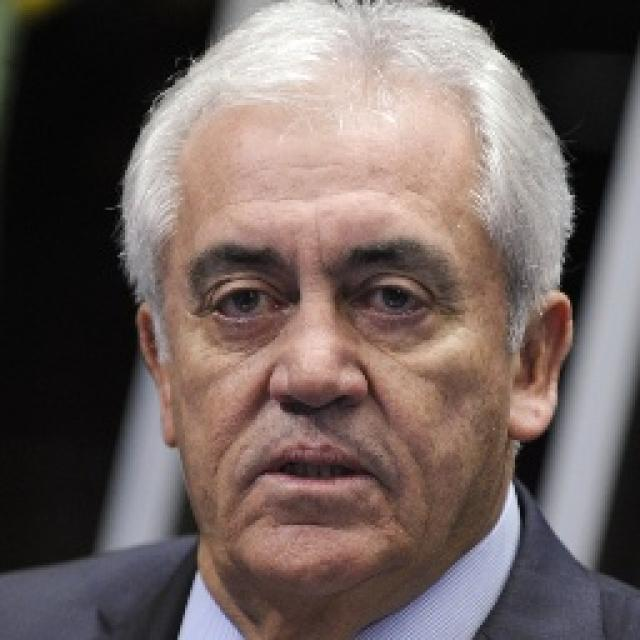earlobe: (505, 288, 573, 443), (136, 304, 182, 450)
